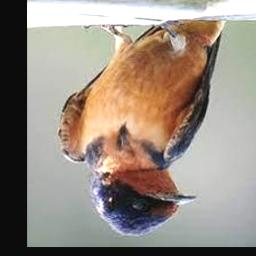Swallow: (57, 20, 225, 238)
